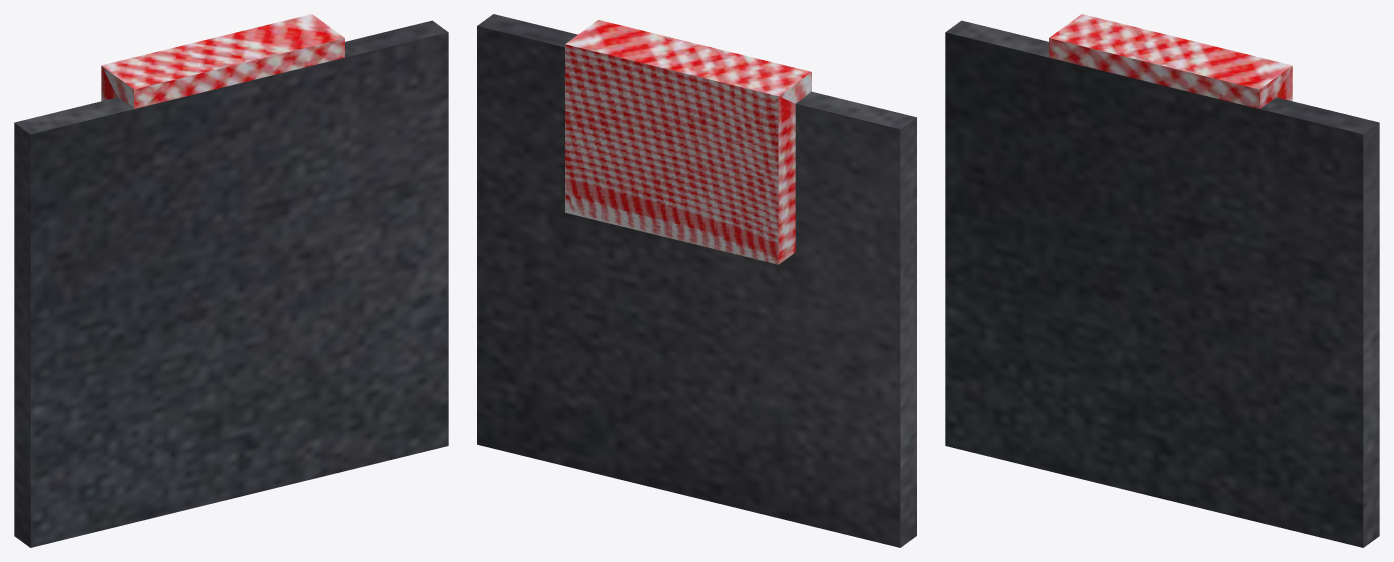
The model's file is oven towel.FBX.
3 renders of one model, left to right at view 1: azimuth 30°, elevation 25°; view 2: azimuth 150°, elevation 25°; view 3: azimuth 330°, elevation 25°, orthographic.
Parts seen in each view (by area): view 1: Box002, Object001; view 2: Box002, Object001; view 3: Box002, Object001.
Part boxes in pixels (bbox=[...]): Box002: bbox=[14, 20, 448, 547]; Object001: bbox=[101, 14, 344, 108]; Box002: bbox=[477, 14, 916, 547]; Object001: bbox=[565, 20, 811, 264]; Box002: bbox=[945, 20, 1379, 547]; Object001: bbox=[1049, 14, 1292, 108].
Bounding box in the file's own units: 69.8 × 69.08 × 9.53.
Materials: 2 (2 with a texture image).
